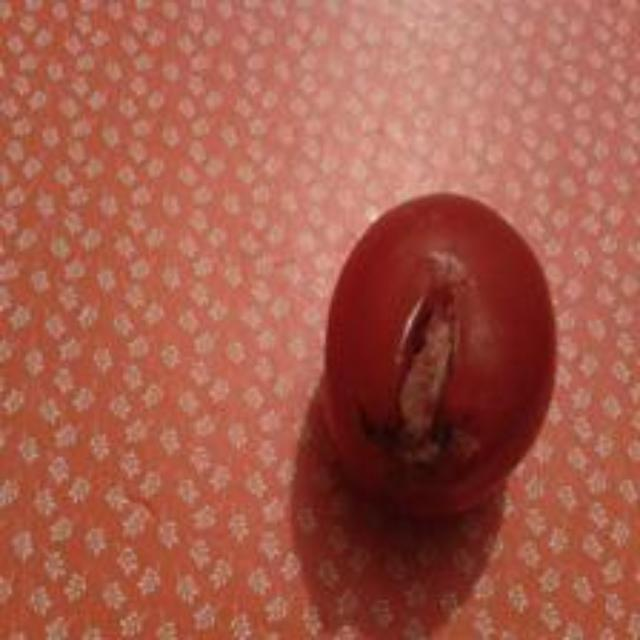defect: (321, 185, 562, 519)
